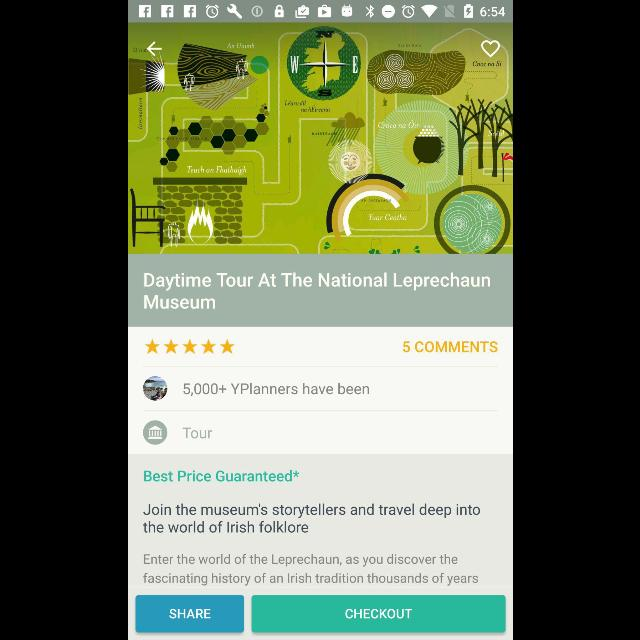icon: (144, 338, 234, 354), (142, 420, 166, 446), (480, 41, 500, 58), (146, 42, 162, 56)
image: (128, 23, 512, 253), (142, 377, 166, 401)
text: (143, 272, 489, 310), (142, 554, 478, 586), (142, 503, 480, 532), (183, 382, 369, 396), (144, 470, 298, 482), (402, 341, 496, 353), (182, 428, 212, 438)
textbutton: (251, 595, 505, 633), (134, 595, 243, 633)
uppertaskbar: (128, 1, 512, 23)
